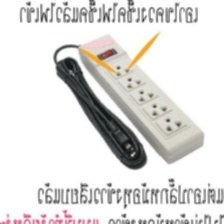three_eye_plug: (71, 27, 207, 166)
